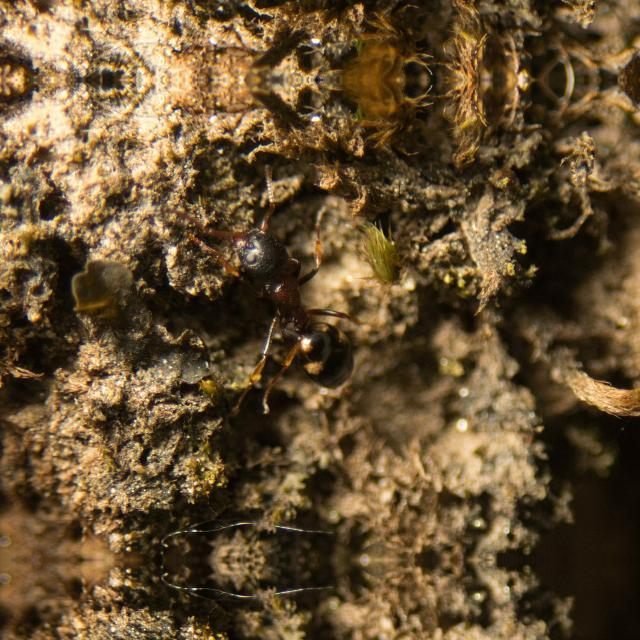Dolichoderus: (198, 200, 382, 410)
